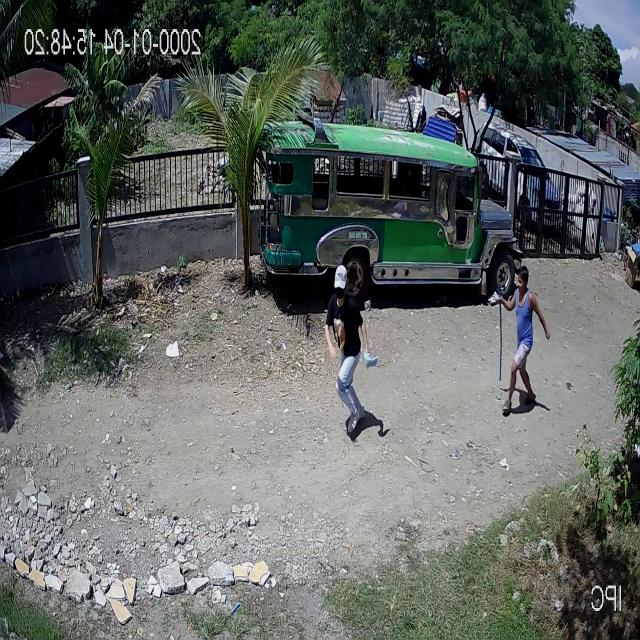running: (324, 264, 379, 433), (498, 266, 550, 415)
